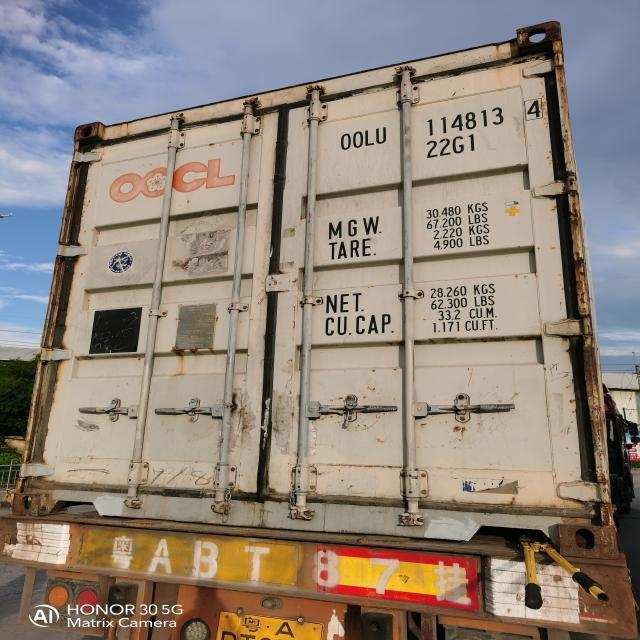ISO: (429, 136, 477, 158)
container_number: (336, 90, 548, 154)
